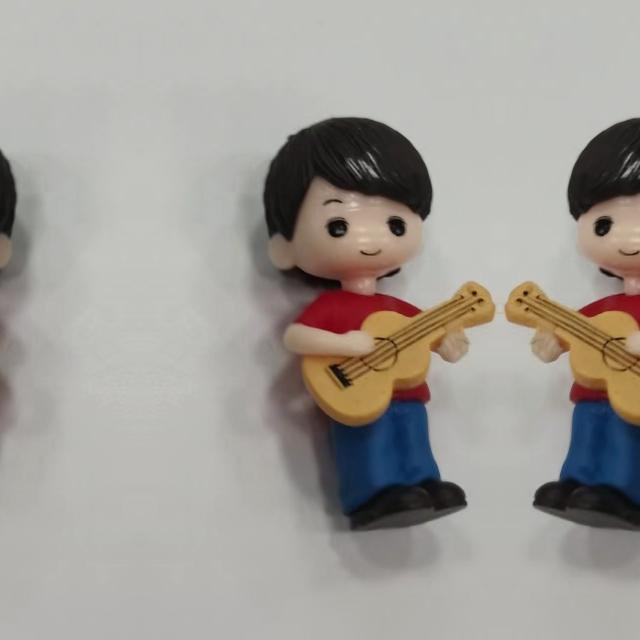man cloth: (287, 289, 448, 403), (551, 289, 640, 403)
man head: (256, 113, 434, 283), (566, 113, 640, 283), (0, 113, 23, 283)
trousers: (319, 400, 479, 536), (521, 400, 640, 536)
